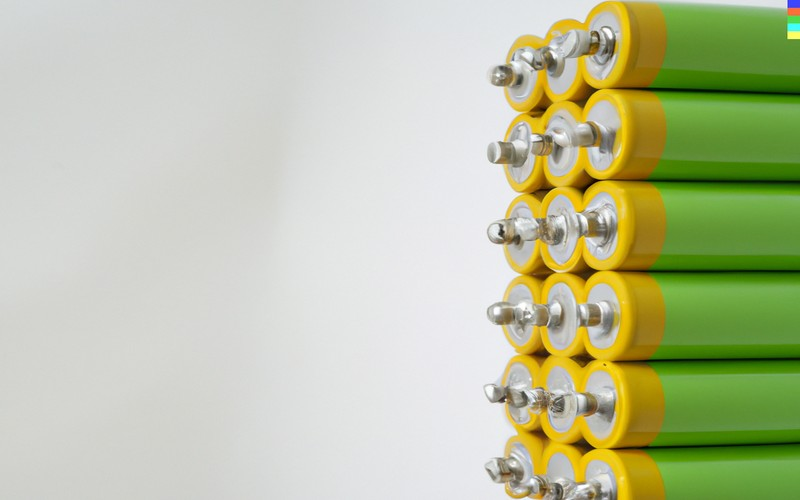Battery: (446, 0, 800, 500)
